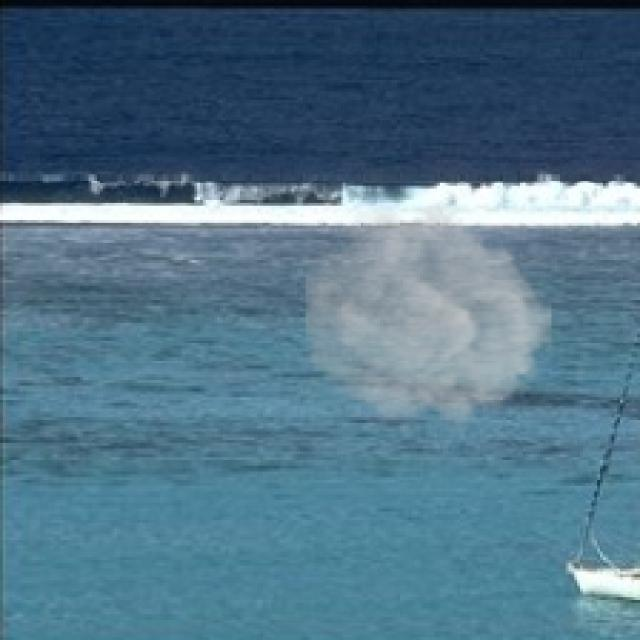Smoke: (306, 200, 552, 434)
